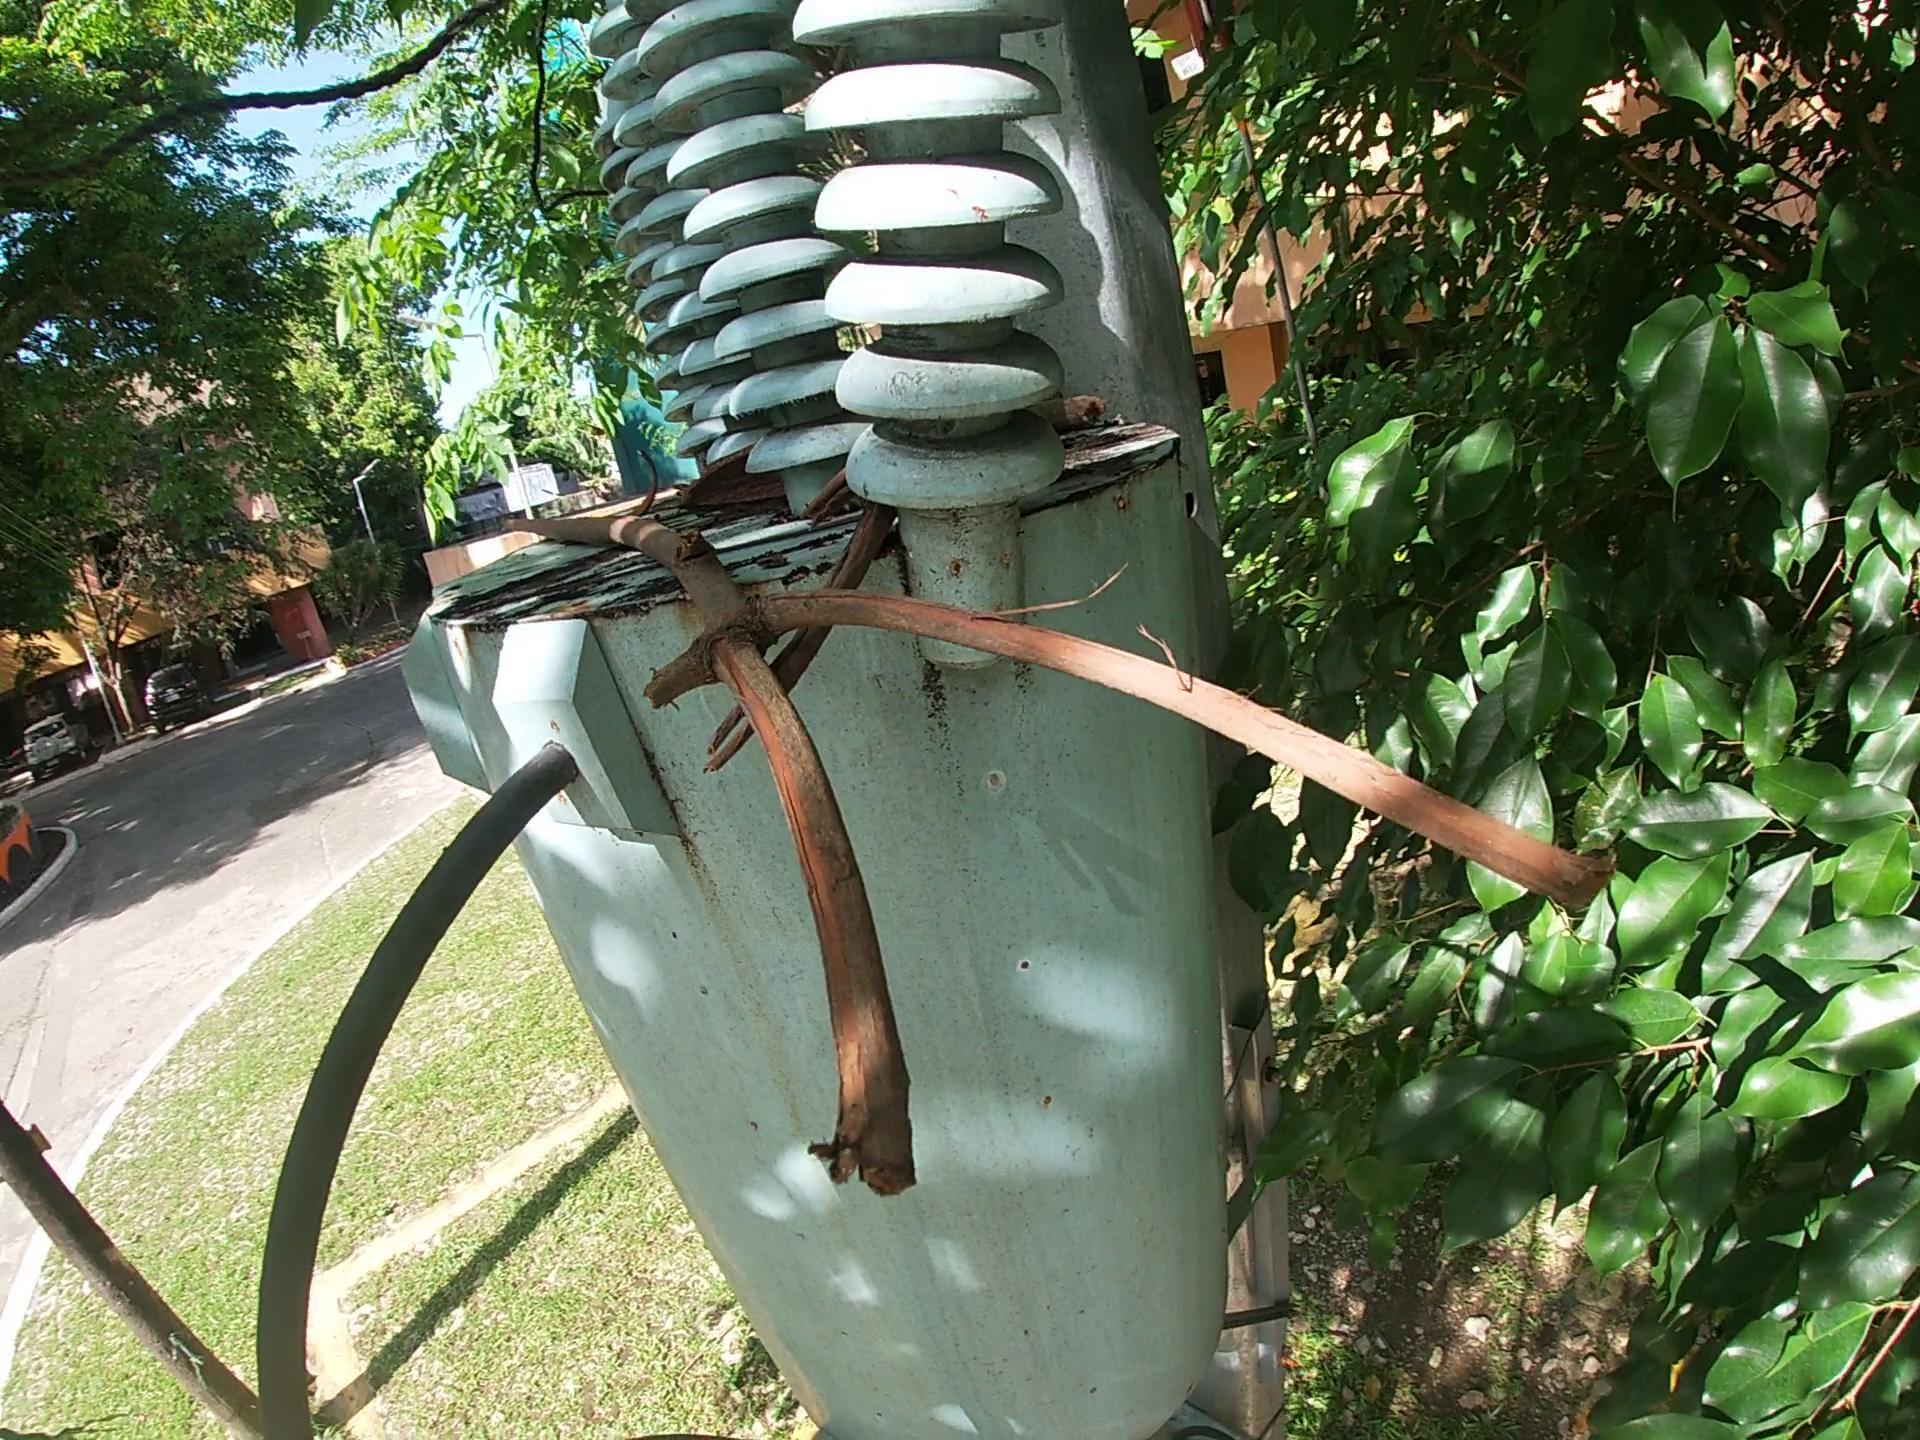mahogany fruit: (677, 445, 788, 514), (626, 446, 661, 517)
tree branch: (488, 496, 1633, 1209), (680, 467, 912, 796)
